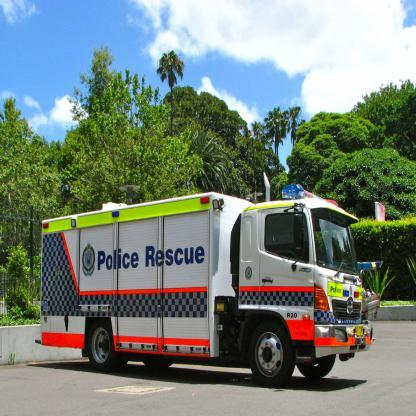truck: (47, 200, 363, 387)
